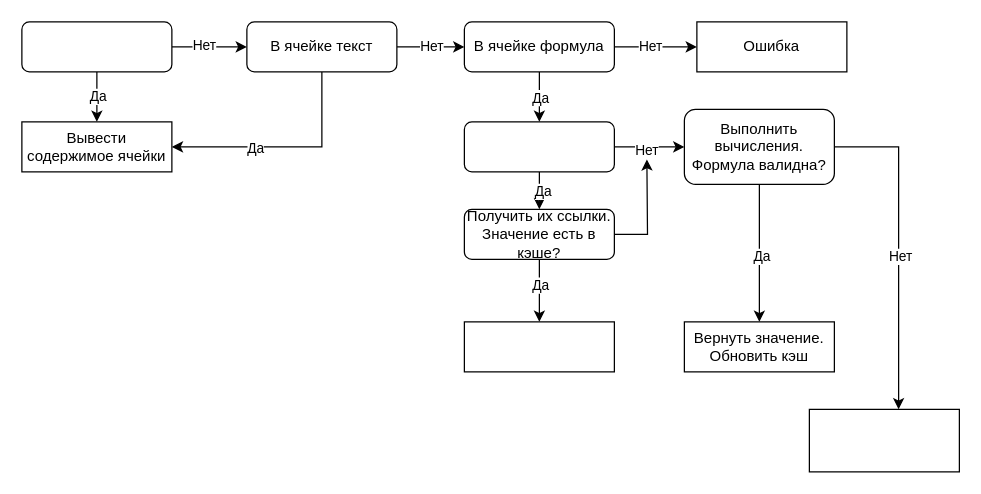
Some shapes in this 981 by 494 pixel diagram are drawn without their labels. The shapes that lost their labels are listed below. From the top down, each one's centre as x and y in pixels, then its label:
[96,46]: В ячейке число
[538,146]: Формула ссылается на другие ячейки?
[538,346]: Вернуть значение из кэша
[883,440]: Вернуть ошибку VALUE, DIV, REF
